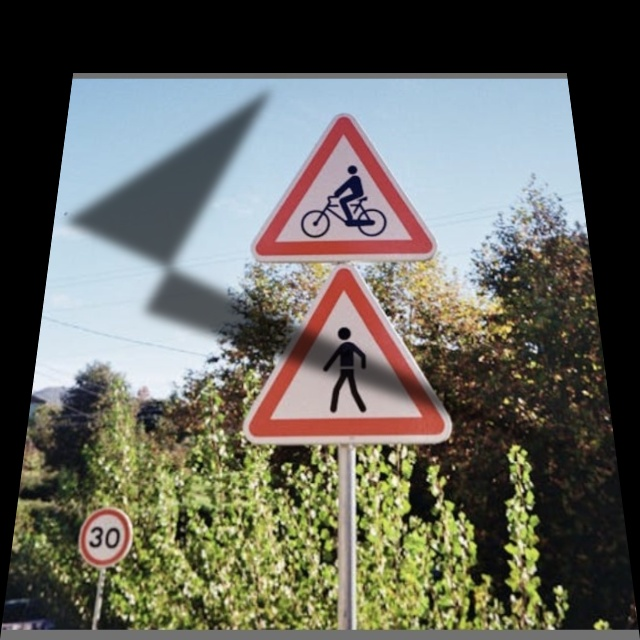Cycle_Crossing: (256, 110, 441, 260)
